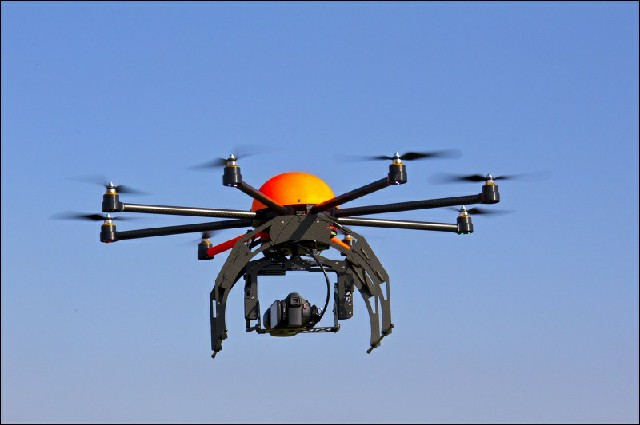maybay_khongnguoilai: (74, 142, 498, 349)
